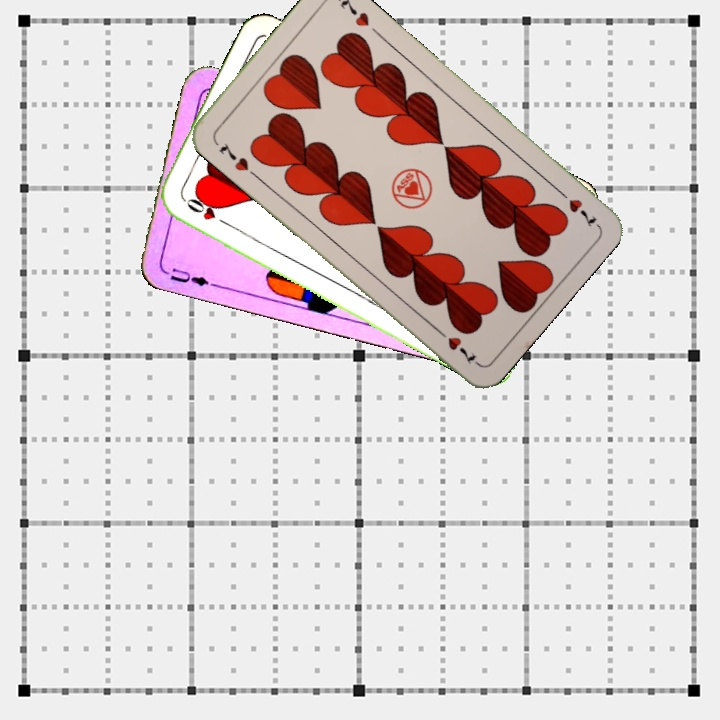EU: (159, 260, 217, 289)
H7: (552, 184, 600, 230), (215, 138, 251, 174)
HO: (179, 194, 233, 229)
